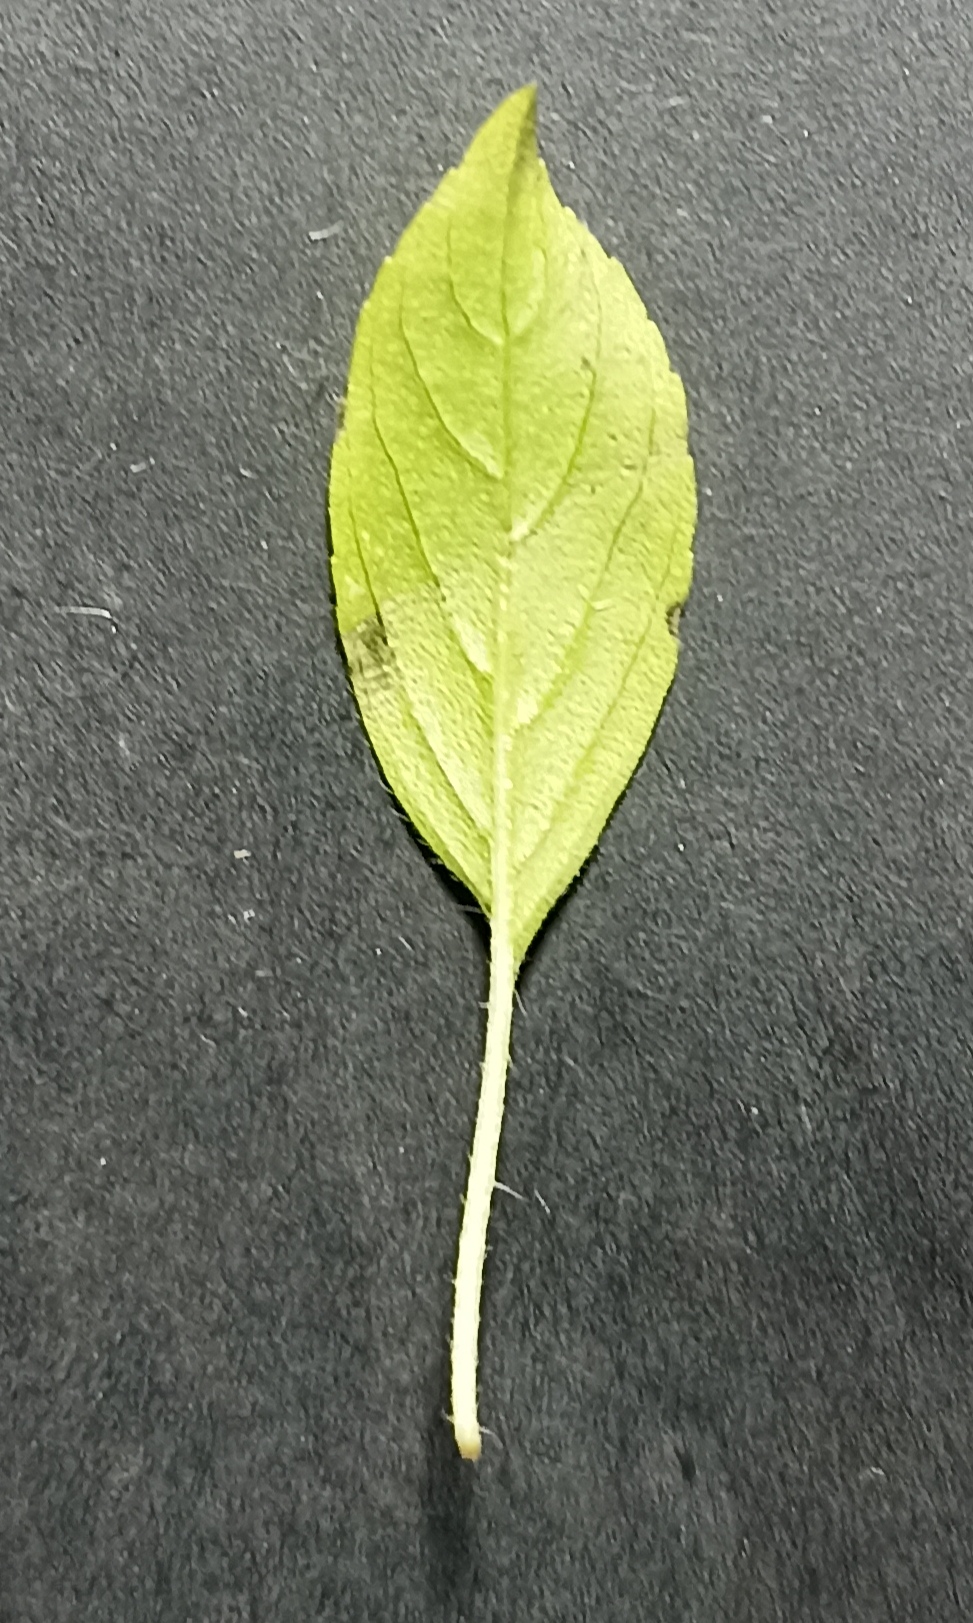Unhealthy: (314, 59, 737, 971)
